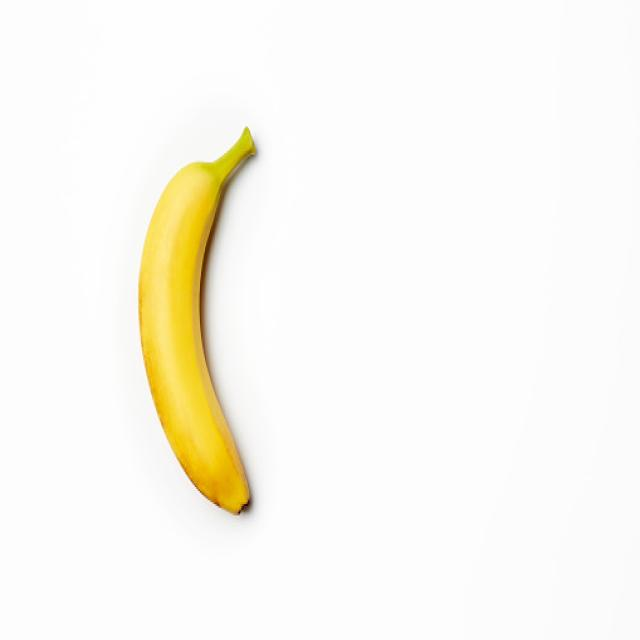non_orange: (137, 130, 256, 517)
